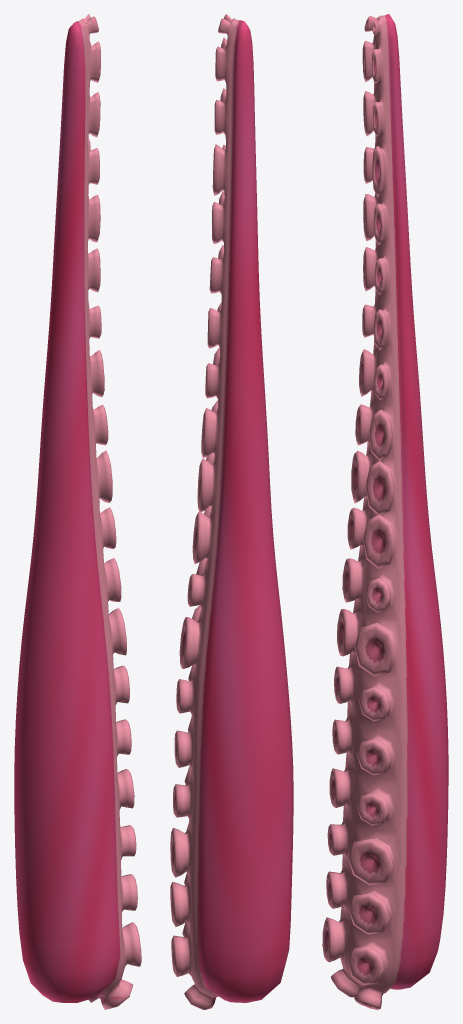
The model's file is tentacle.glb.
3 renders of one model, left to right at view 1: azimuth 90°, elevation 25°; view 2: azimuth 210°, elevation 25°; view 3: azimuth 270°, elevation 25°, orthographic.
Visible parts, largest first — view 1: Tentacle_Baked; view 2: Tentacle_Baked; view 3: Tentacle_Baked.
Part boxes in pixels (x1,y1,x2,y2): Tentacle_Baked: (14,14,141,1009); Tentacle_Baked: (170,14,293,1009); Tentacle_Baked: (322,14,448,1009).
Size of the model in its own units: 1.02 by 8.93 by 1.04.
Materials: 1 (1 with a texture image).
